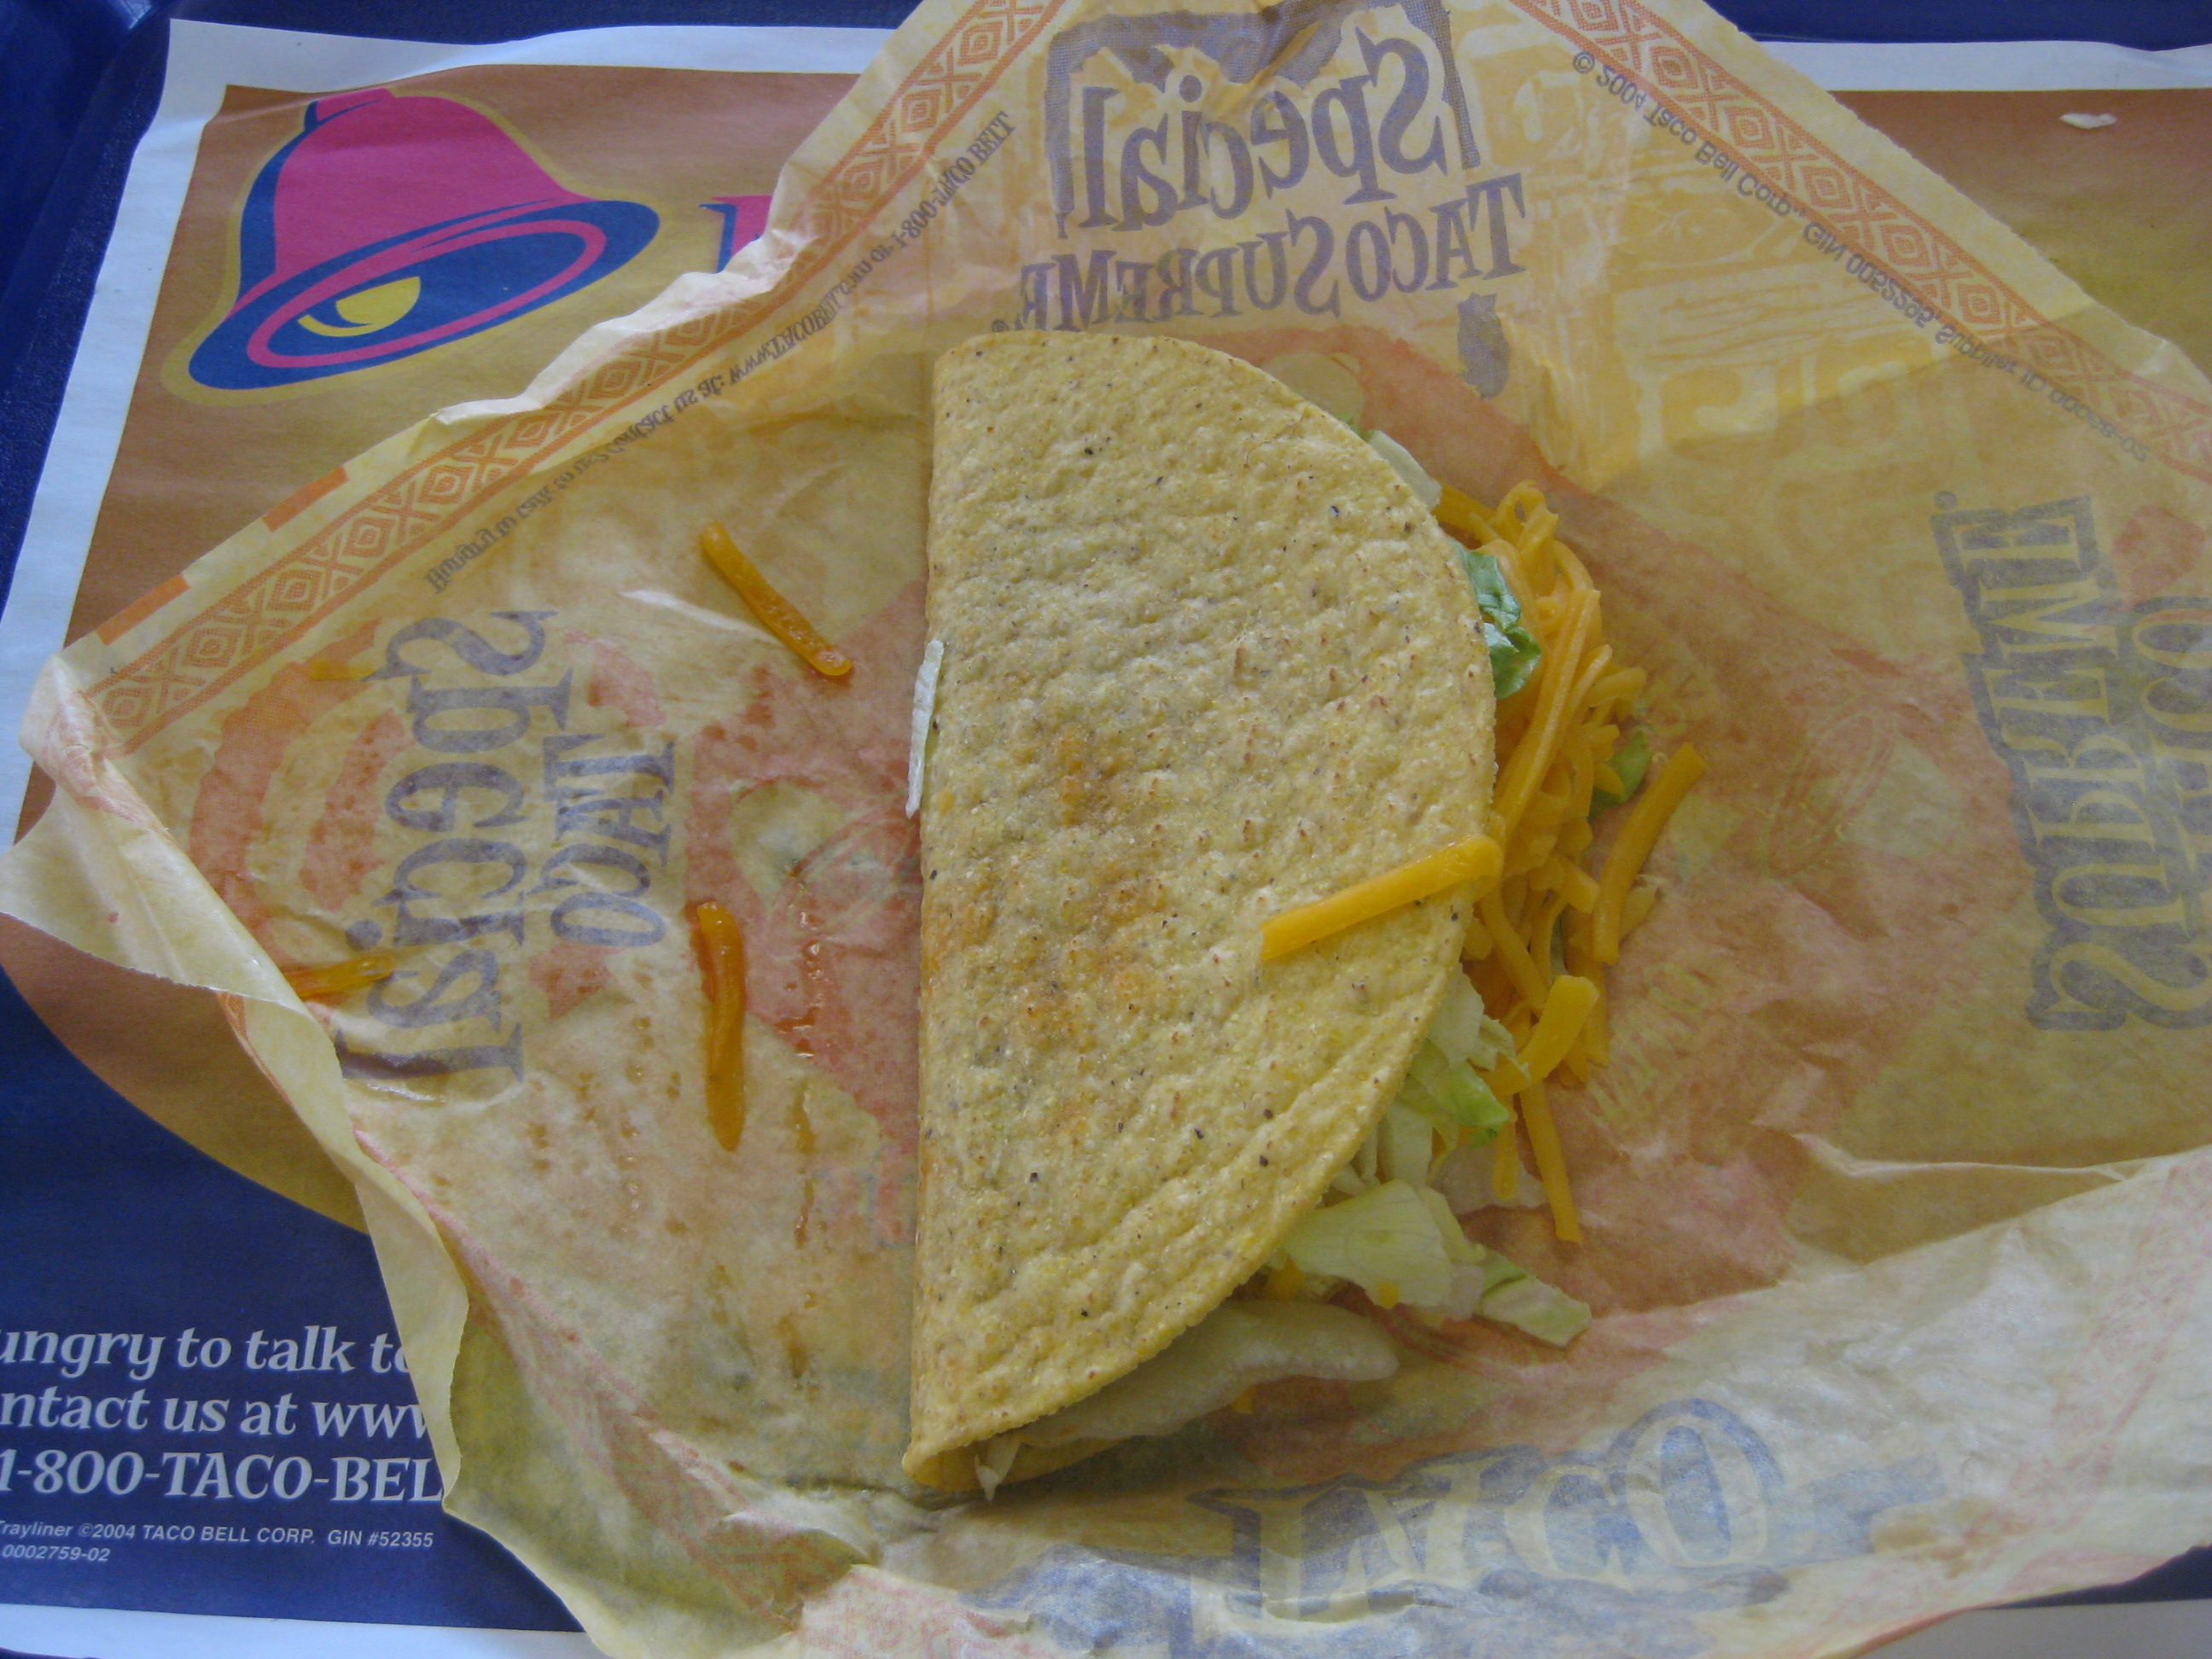taco: (878, 234, 1666, 1499)
